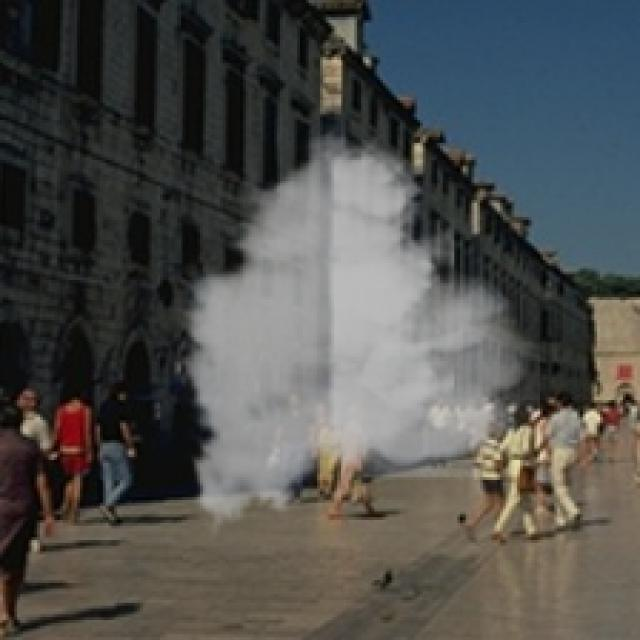Smoke: (168, 117, 540, 543)
